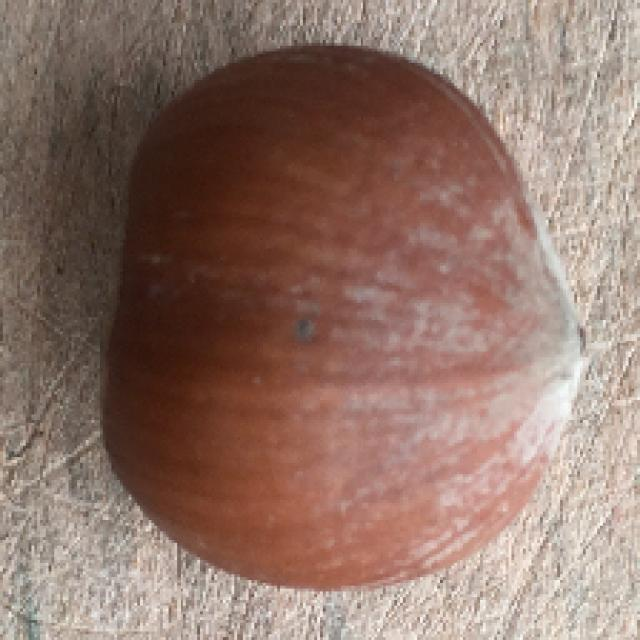DamagedHazelnut: (96, 36, 590, 600)
